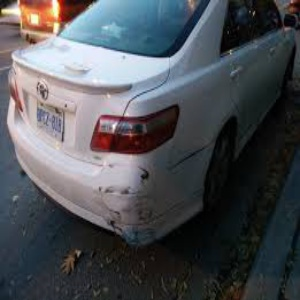bumper_scratch: (86, 156, 172, 244)
